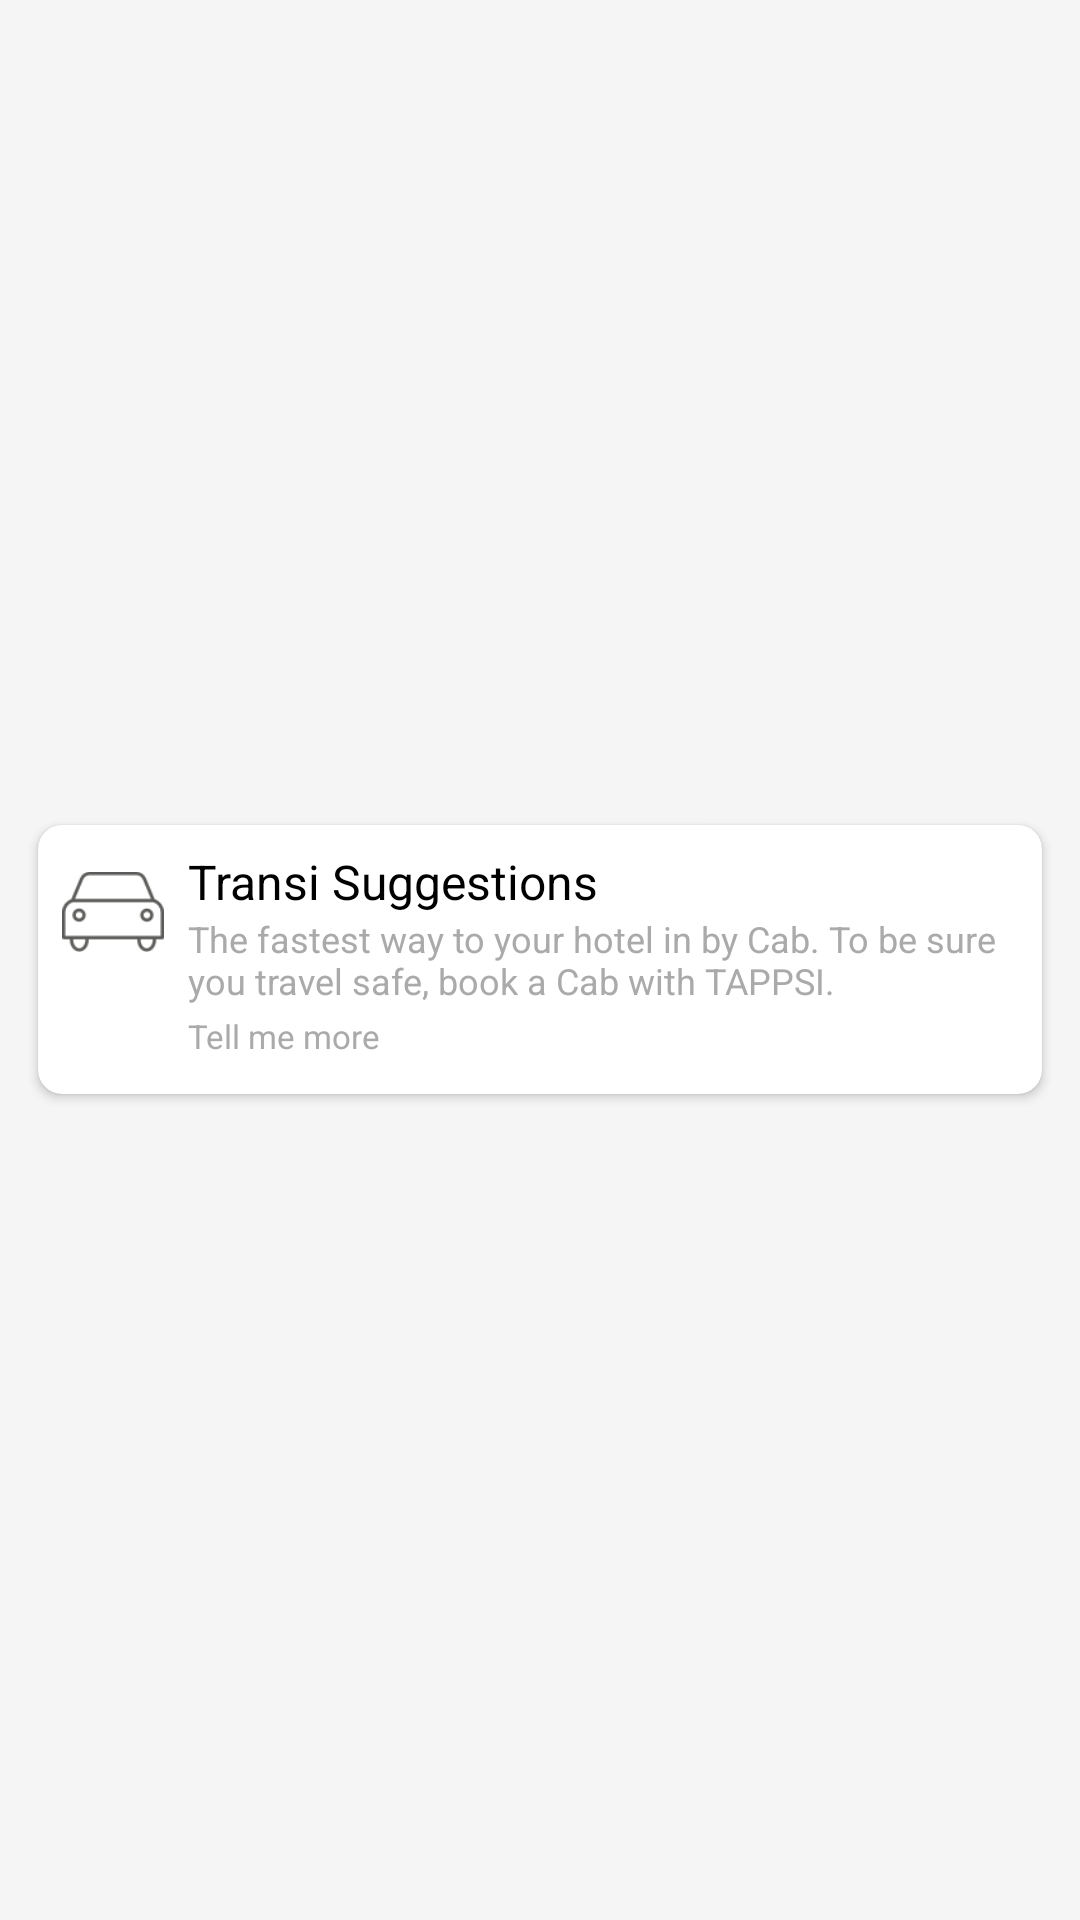

Screen size 1080×1920. Icon name, then its center in pixels as point (x, y):
car: point (113, 912)
